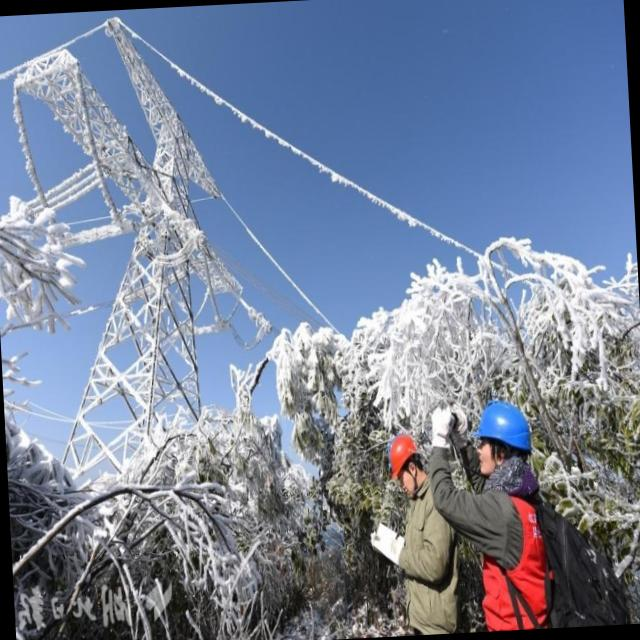helmet: (472, 398, 534, 450), (385, 433, 418, 477)
no-vest: (392, 486, 460, 630), (472, 468, 540, 590)
